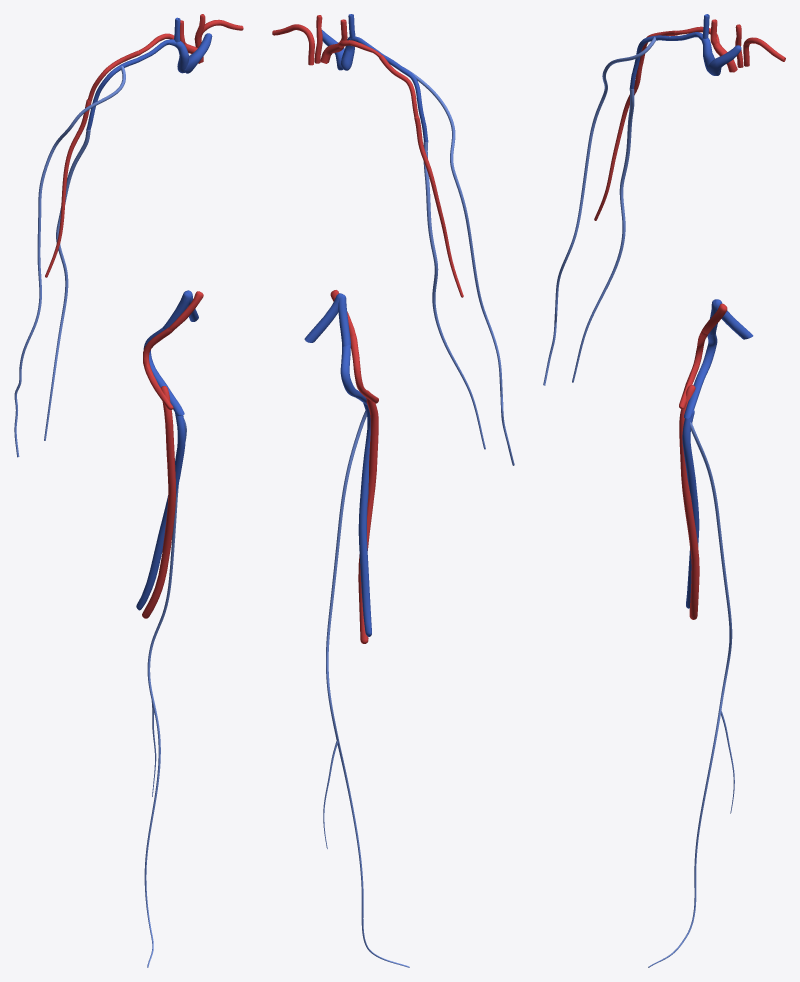
The model's file is systemic-vessels.glb.
The picture shows the model from 3 angles, left to right: view 1: azimuth 30°, elevation 25°; view 2: azimuth 150°, elevation 25°; view 3: azimuth 330°, elevation 25°; orthographic projection. The views are drawn at different scales.
Parts seen in each view (by area): view 1: right_femoral_artery, right_great_saphenous_vein, right_cephalic_vein, right_femoral_vein, right_basilic_vein, right_brachial_artery, right_external_iliac_artery; view 2: right_great_saphenous_vein, right_femoral_vein, right_cephalic_vein, right_femoral_artery, right_basilic_vein, right_brachial_artery, right_external_iliac_vein, right_external_iliac_artery, left_common_iliac_vein; view 3: right_great_saphenous_vein, right_femoral_artery, right_cephalic_vein, right_basilic_vein, right_femoral_vein, right_external_iliac_vein, right_brachial_artery.
Boxes of the visible parts, x1,y1,x2,y2 form: right_femoral_artery: (142,386,176,618); right_great_saphenous_vein: (144,418,186,967); right_cephalic_vein: (14,66,125,457); right_femoral_vein: (136,413,185,610); right_basilic_vein: (44,130,90,440); right_brachial_artery: (45,99,90,277); right_external_iliac_artery: (143,327,173,409); right_great_saphenous_vein: (323,410,409,967); right_femoral_vein: (358,403,371,636); right_cephalic_vein: (403,67,514,465); right_femoral_artery: (358,390,378,643); right_basilic_vein: (423,140,485,449); right_brachial_artery: (414,116,463,297); right_external_iliac_vein: (340,344,367,404); right_external_iliac_artery: (350,335,378,403); left_common_iliac_vein: (304,293,342,342); right_great_saphenous_vein: (648,422,734,967); right_femoral_artery: (679,385,699,619); right_cephalic_vein: (543,36,656,385); right_basilic_vein: (572,88,634,382); right_femoral_vein: (682,410,699,608); right_external_iliac_vein: (684,334,717,418); right_brachial_artery: (594,62,643,220).
Bounding box in the file's own units: 0.3656 × 1.41 × 0.1067.
